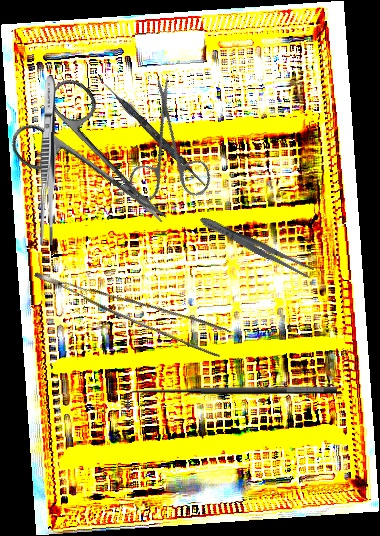Dressing Forceps: (197, 212, 316, 281), (38, 75, 59, 246)
Hook Surgical: (125, 384, 337, 410)
Iris Scissors: (2, 71, 196, 260), (89, 73, 246, 231)
Spatula Surgical: (92, 73, 210, 188)
Tissue Forceps: (33, 240, 233, 368)
